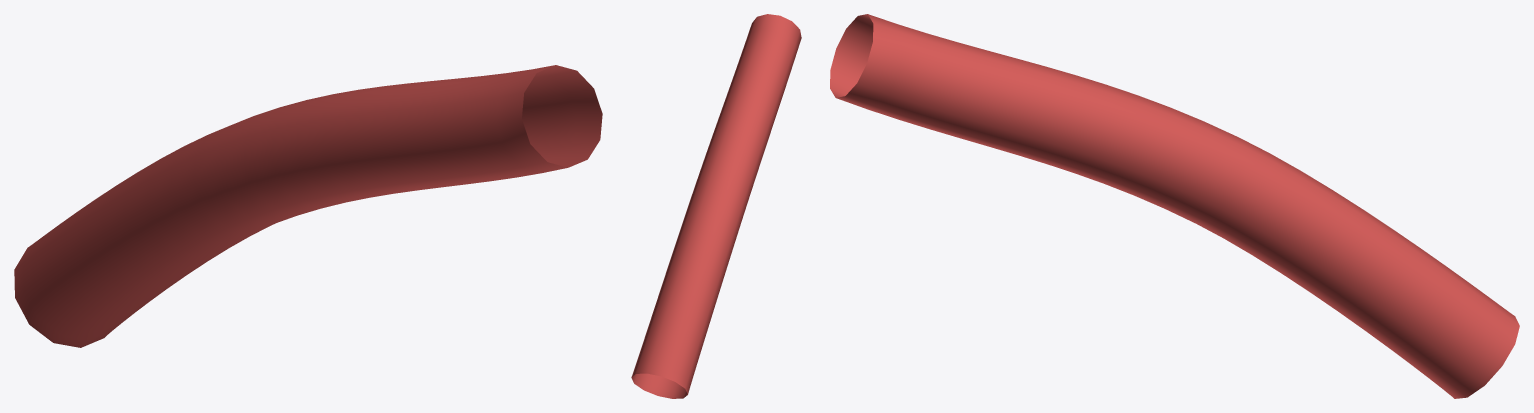
The picture shows the model from 3 angles, left to right: view 1: azimuth 30°, elevation 25°; view 2: azimuth 150°, elevation 25°; view 3: azimuth 270°, elevation 25°; orthographic projection. The views are drawn at different scales.
Parts seen in each view (by area): view 1: 左侧髂腰动脉; view 2: 左侧髂腰动脉; view 3: 左侧髂腰动脉.
Boxes of the visible parts, left/top/right/bottom form: 左侧髂腰动脉: left=14, top=65, right=602, bottom=347; 左侧髂腰动脉: left=631, top=14, right=801, bottom=398; 左侧髂腰动脉: left=830, top=14, right=1519, bottom=398.
Size of the model in its own units: 0.0129 by 0.027 by 0.0395.
